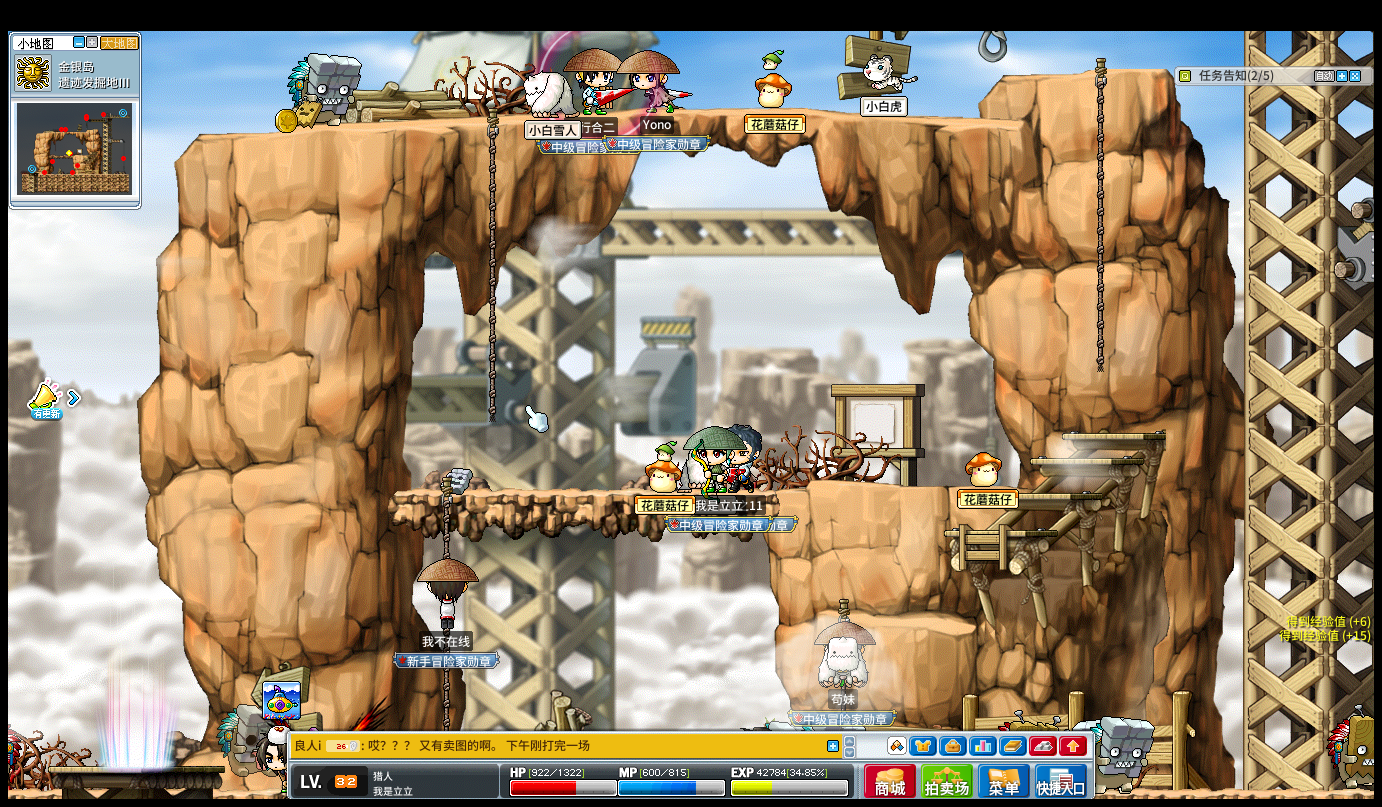floor: (194, 105, 1030, 137), (388, 488, 784, 499), (997, 65, 1172, 78), (871, 613, 975, 634), (1062, 429, 1166, 442), (878, 483, 1033, 491), (1026, 455, 1138, 464), (942, 528, 1057, 536), (1005, 492, 1102, 500)
monster: (287, 52, 361, 128), (1089, 715, 1154, 791), (1328, 711, 1381, 789), (217, 705, 266, 783)
rope: (1093, 58, 1110, 373), (485, 99, 498, 419), (437, 476, 451, 561), (440, 669, 449, 729)
